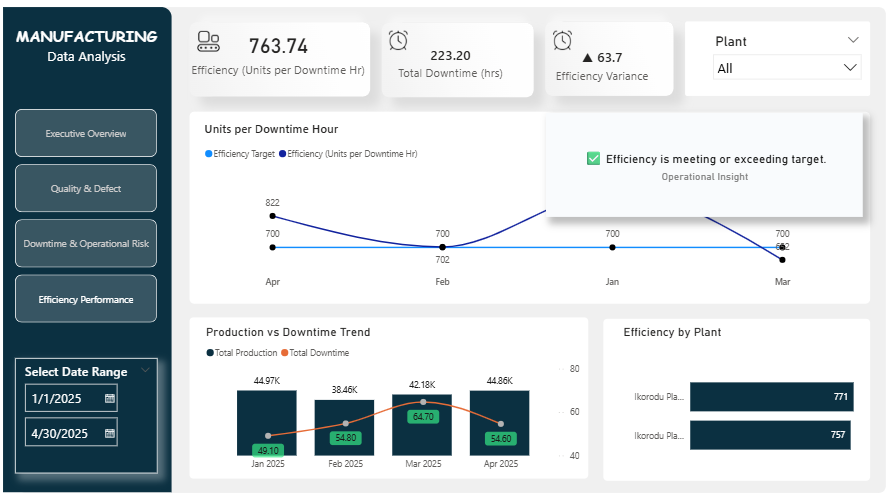

What the dashboard file says about the page in this screenshot:
{"tool":"powerbi","page":{"name":"Efficiency Performance","canvas":[1280,720],"ordinal":3},"visuals":[{"type":"textbox","box":[11.2,20.9,238.6,100.5],"z":0},{"type":"slicer","fields":{"Values":["Date_Table.Date"]},"box":[30.6,507.6,198.6,161.3],"z":1000},{"type":"card","fields":{"Values":["Manufacturing.Efficiency (Units per Downtime Hr)"]},"box":[262.7,21.9,271.2,117.9],"z":2000},{"type":"cardVisual","fields":{"Data":["Manufacturing.Total Downtime (hrs)"]},"box":[533.6,21.6,211.1,149.6],"z":3000},{"type":"cardVisual","fields":{"Data":["Manufacturing.Efficiency Variance KPI"]},"box":[725.9,21.9,249.3,153.3],"z":4000},{"type":"lineClusteredColumnComboChart","title":"Production vs  Downtime Trend","fields":{"Category":["Date_Table.Month Year"],"Y":["Manufacturing.Total Production"],"Y2":["Manufacturing.Total Downtime"]},"box":[290.3,461.8,533.1,212.2],"z":5000},{"type":"clusteredBarChart","title":"Efficiency by Plant","fields":{"Category":["Manufacturing.Plant"],"Y":["Manufacturing.Production per Downtime Hour"]},"box":[874.3,461.8,339.5,229.2],"z":6000},{"type":"lineChart","title":"Units per Downtime Hour","fields":{"Category":["Date_Table.Month Short"],"Y":["Manufacturing.Efficiency Target","Manufacturing.Efficiency (Units per Downtime Hr)"]},"box":[289.7,176.8,911.2,242.5],"z":7000},{"type":"slicer","fields":{"Values":["Manufacturing.Plant"]},"box":[994.4,50.4,226.8,89],"z":8000},{"type":"pageNavigator","box":[30.3,160,198.7,301.5],"z":9000},{"type":"card","fields":{"Values":["Manufacturing.Efficiency Insight"]},"box":[771.6,166,442.3,145.1],"z":10000}]}

Visuals, with their boxes on the page's 1280x720 design canvas (x1, y1, x2, y2). These are canvas units, not pixel positions in the 896x497 screenshot, which may show the page scaled, cropped or inside an application window:
textbox: region(11, 21, 250, 121)
slicer - Date_Table.Date: region(31, 508, 229, 669)
card - Manufacturing.Efficiency (Units per Downtime Hr): region(263, 22, 534, 140)
cardVisual - Manufacturing.Total Downtime (hrs): region(534, 22, 745, 171)
cardVisual - Manufacturing.Efficiency Variance KPI: region(726, 22, 975, 175)
"Production vs  Downtime Trend" lineClusteredColumnComboChart: region(290, 462, 823, 674)
"Efficiency by Plant" clusteredBarChart: region(874, 462, 1214, 691)
"Units per Downtime Hour" lineChart: region(290, 177, 1201, 419)
slicer - Manufacturing.Plant: region(994, 50, 1221, 139)
pageNavigator: region(30, 160, 229, 462)
card - Manufacturing.Efficiency Insight: region(772, 166, 1214, 311)
